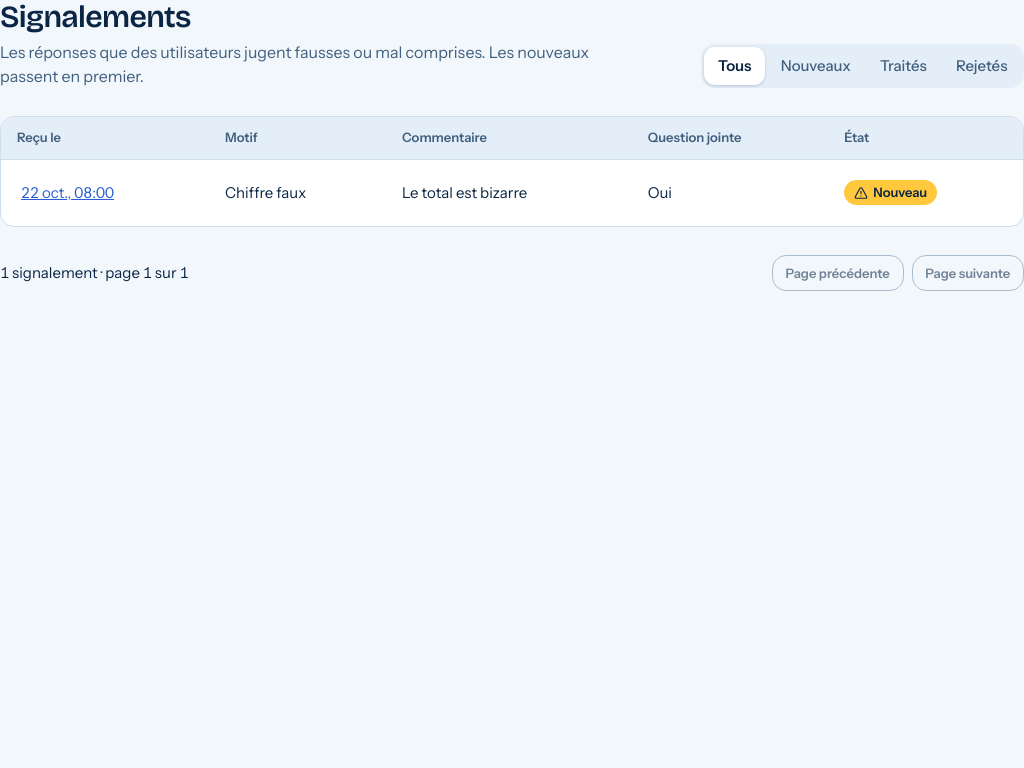
Signalements › avec consentement : affiche la question
Click the button with aria-label "Ouvrir le signalement" at point(68, 193), box [17, 171, 118, 215]
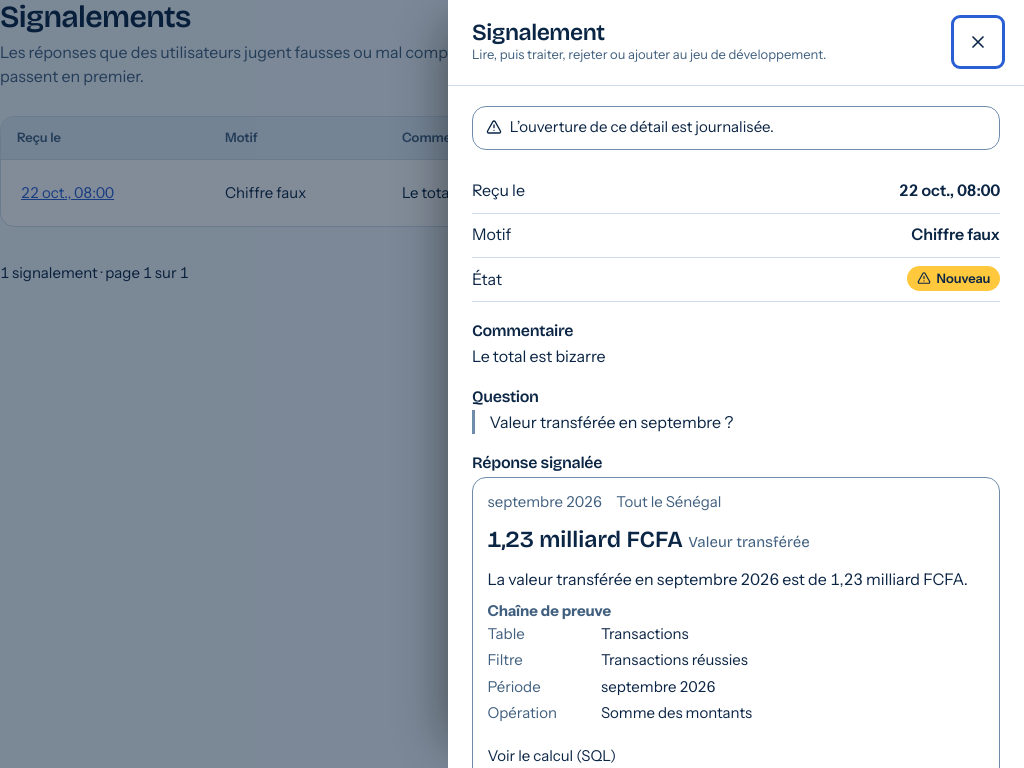
expect the text "Valeur transférée en septembre ?" is shown: met, box [472, 410, 1000, 434]
